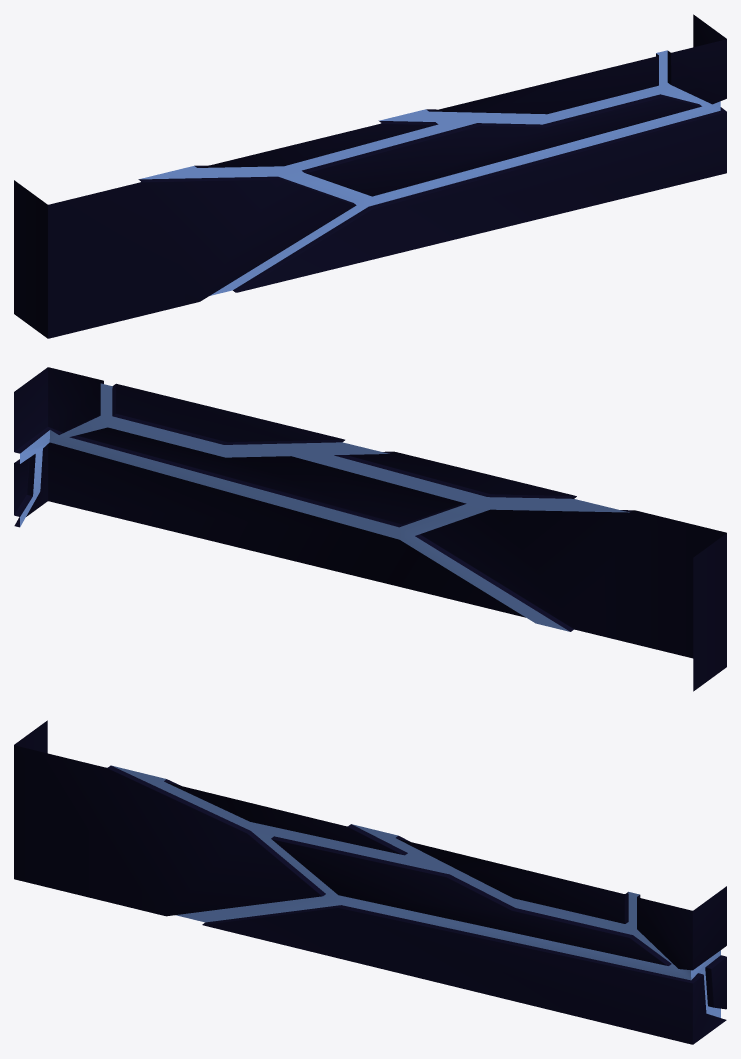
The model's file is tronWalBezels.fbx.
3 renders of one model, top to bottom at view 1: azimuth 30°, elevation 25°; view 2: azimuth 150°, elevation 25°; view 3: azimuth 330°, elevation 25°, orthographic.
Parts seen in each view (by area): view 1: Cube; view 2: Cube; view 3: Cube.
Part boxes in pixels (x1,y1,x2,y2): Cube: (14,14,726,338); Cube: (14,367,726,691); Cube: (14,720,726,1044).
Size of the model in its own units: 2305 by 435 by 200.
